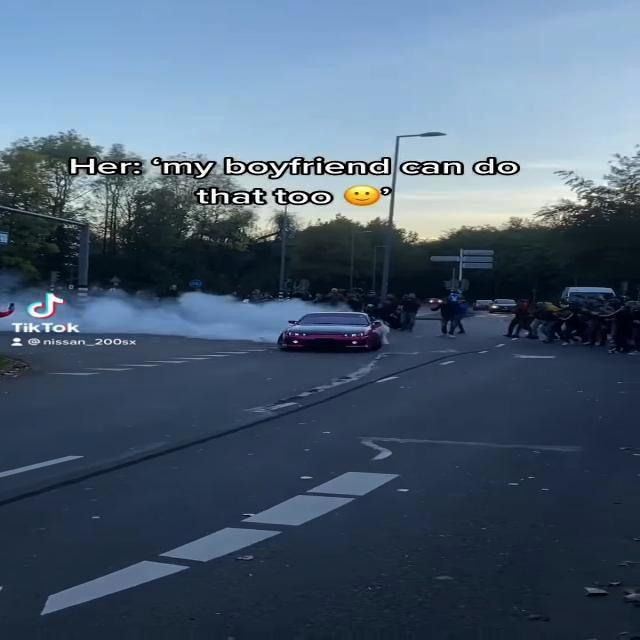car: (283, 308, 387, 359)
